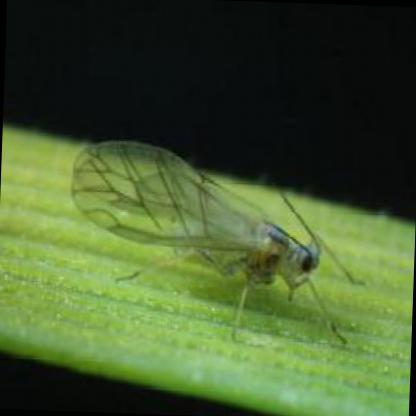schizaphis graminum: (68, 140, 323, 339)
